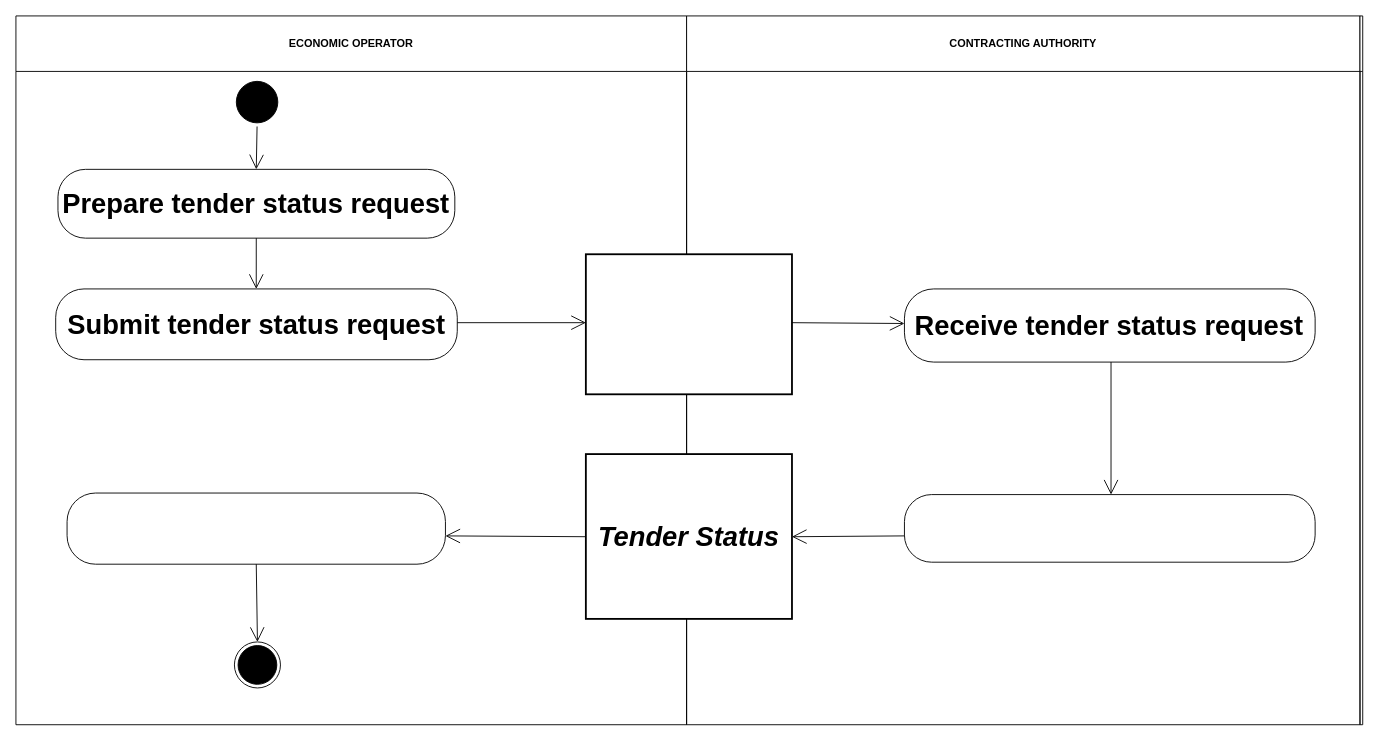
Image size: 1379x741. Some labels were removed from this diagram. The centre of each missing label's shape, as x and y in pixels:
"Receive tender status" belongs at pixel 255 528.
"Submit tender status" belongs at pixel 1109 528.
"Tender Status Request" belongs at pixel 688 324.
